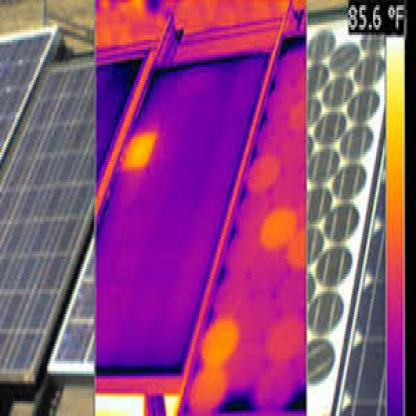Defects: (204, 322, 236, 353), (197, 368, 223, 406), (123, 137, 152, 167)
